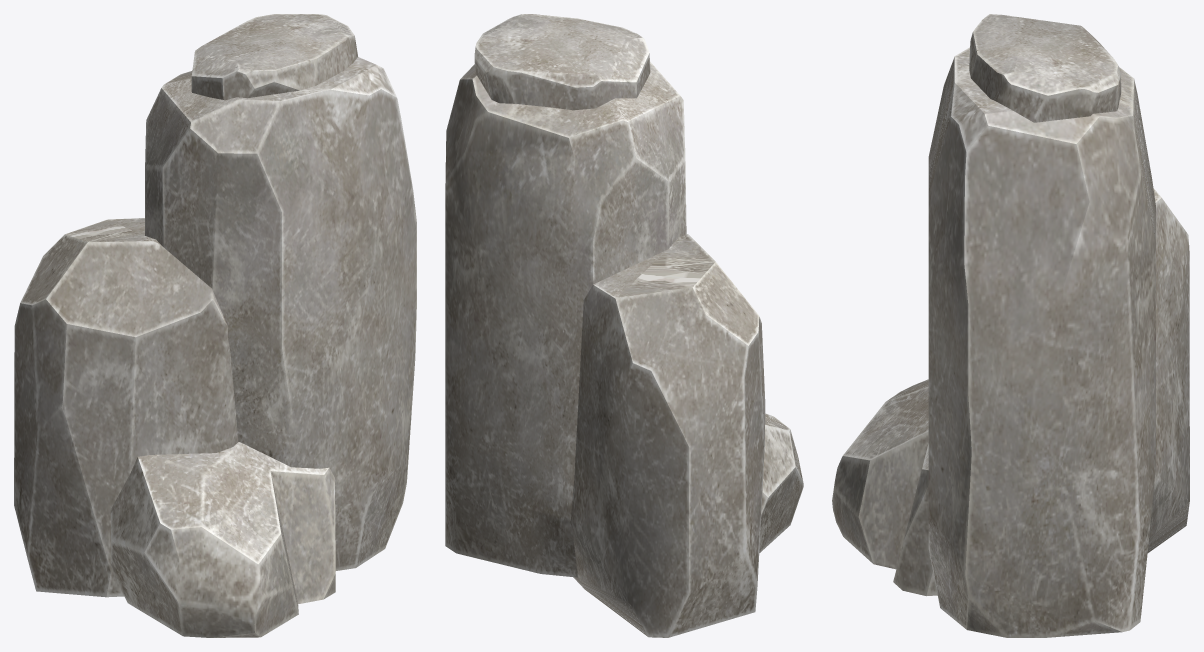
File: tall_rockgroup_5_dream.glb
3 renders of one model, left to right at view 1: azimuth 30°, elevation 25°; view 2: azimuth 150°, elevation 25°; view 3: azimuth 270°, elevation 25°, orthographic. The views are drawn at different scales.
Visible parts, largest first — view 1: tall_rockgroup_5; view 2: tall_rockgroup_5; view 3: tall_rockgroup_5.
Part boxes in pixels (x1,y1,x2,y2): tall_rockgroup_5: [14, 14, 416, 637]; tall_rockgroup_5: [445, 14, 803, 637]; tall_rockgroup_5: [832, 14, 1189, 637].
Bounding box in the file's own units: 35.61 × 53.8 × 30.72.
Materials: 1 (1 with a texture image).
